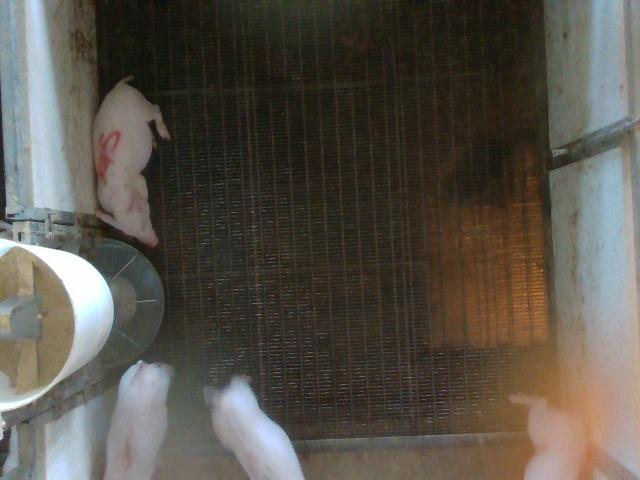pig-1: (109, 361, 174, 478)
pig-3: (211, 376, 302, 479)
pig-5: (92, 76, 170, 247)
